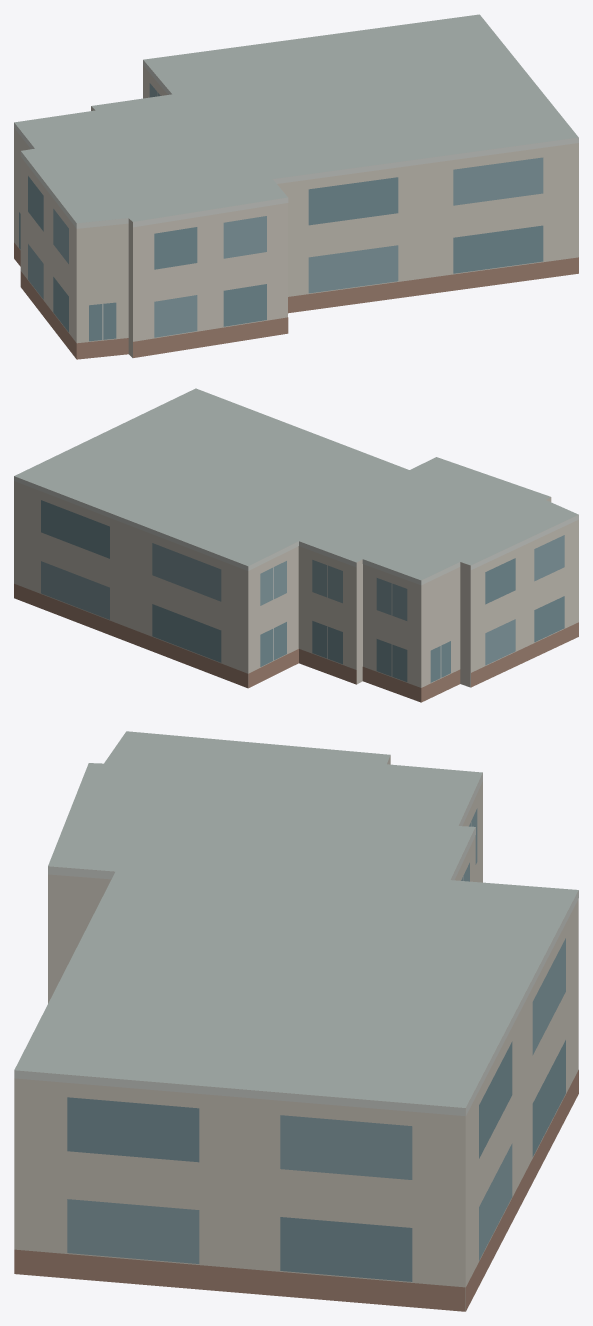
The model's file is survey-upis-32779607.glb.
The picture shows the model from 3 angles, top to bottom: view 1: azimuth 30°, elevation 25°; view 2: azimuth 150°, elevation 25°; view 3: azimuth 270°, elevation 25°; orthographic projection. The views are drawn at different scales.
Visible parts, largest first — view 1: survey-upis-32779607.tmp; view 2: survey-upis-32779607.tmp; view 3: survey-upis-32779607.tmp.
Boxes of the visible parts, x1,y1,x2,y2 form: survey-upis-32779607.tmp: (14, 14, 578, 359); survey-upis-32779607.tmp: (14, 388, 578, 702); survey-upis-32779607.tmp: (14, 731, 578, 1311).
Size of the model in its own units: 24.23 by 6.1 by 15.34.
